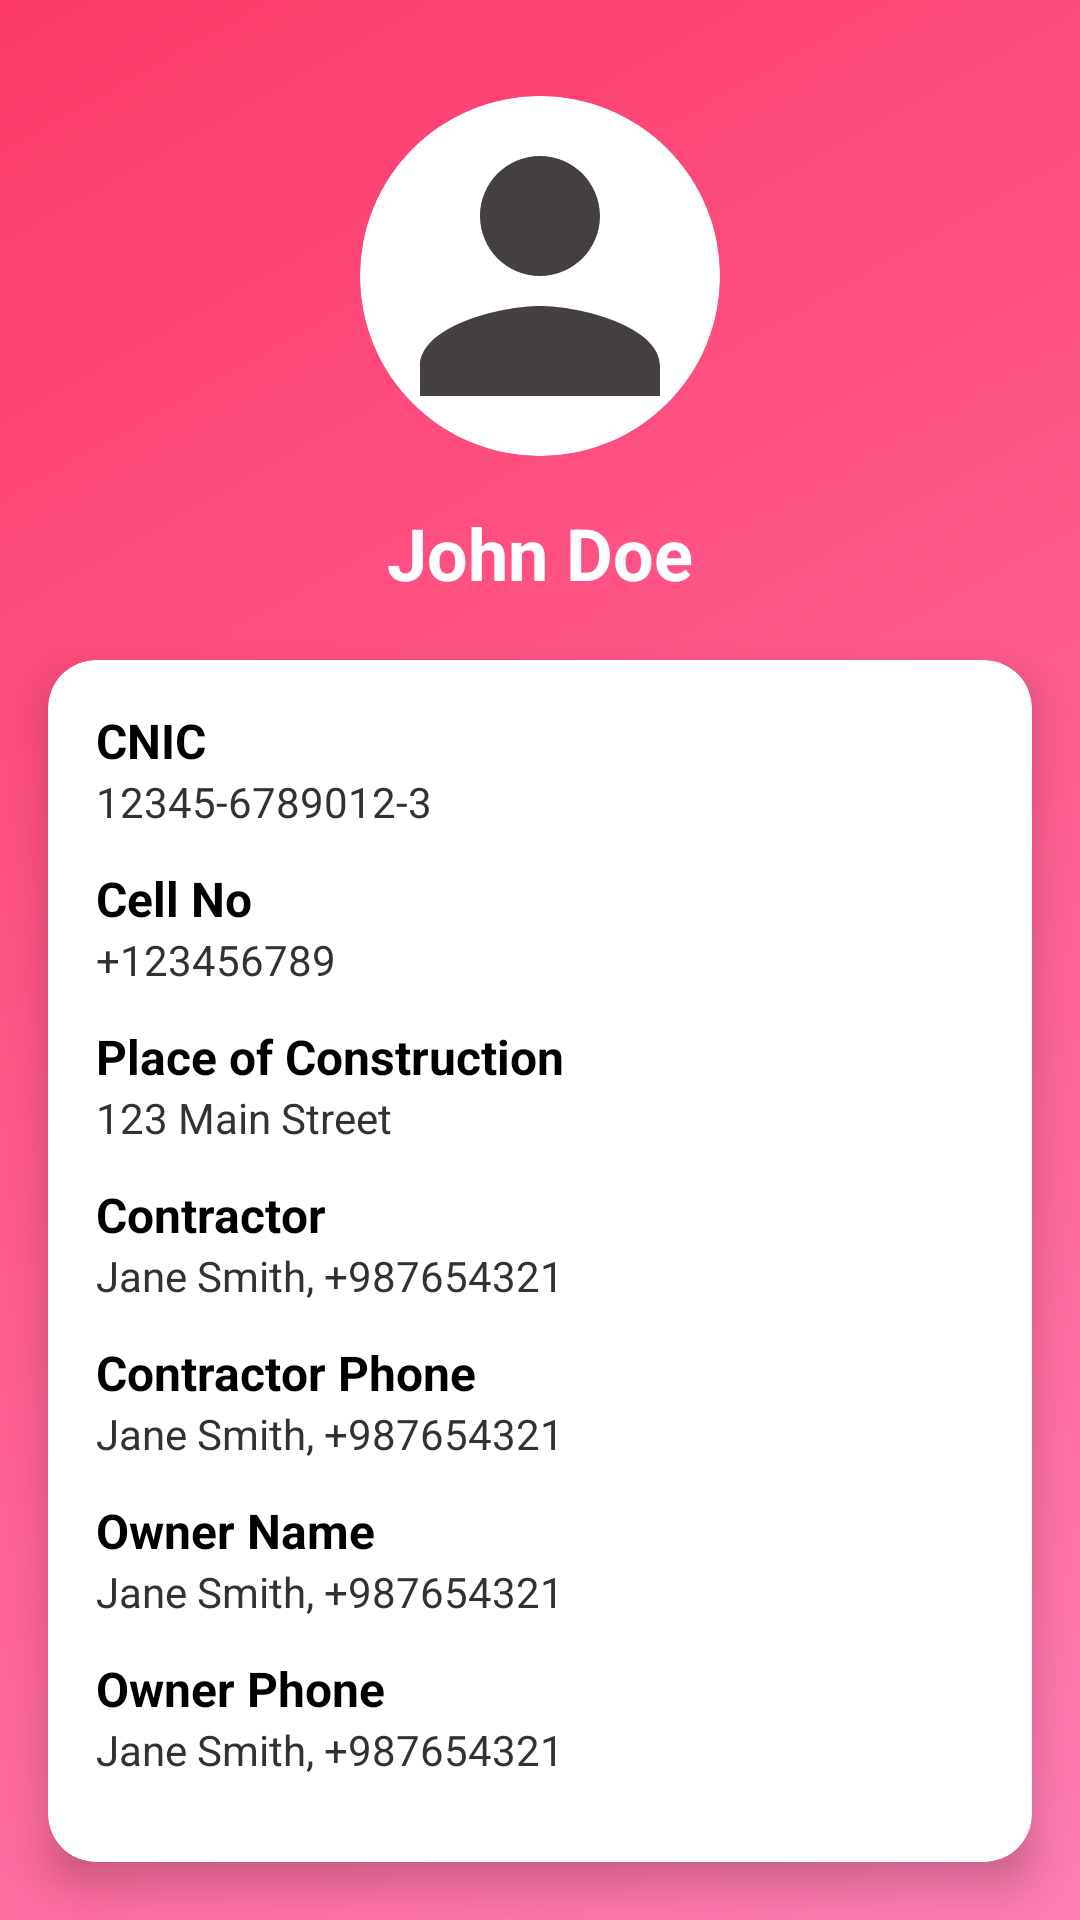

Where to tap for icons on this 1080 × 1920 app screen, as point (x, y):
place holder: point (540, 276)
